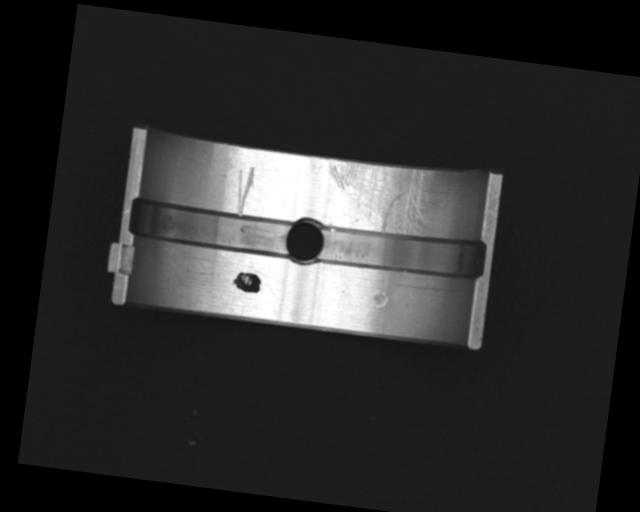blot: (230, 270, 262, 295)
bruise: (372, 288, 389, 308)
gap: (316, 219, 488, 283), (127, 199, 291, 257)
hole: (283, 215, 326, 268)
nick: (231, 165, 257, 218)
scratch: (320, 155, 438, 239)
